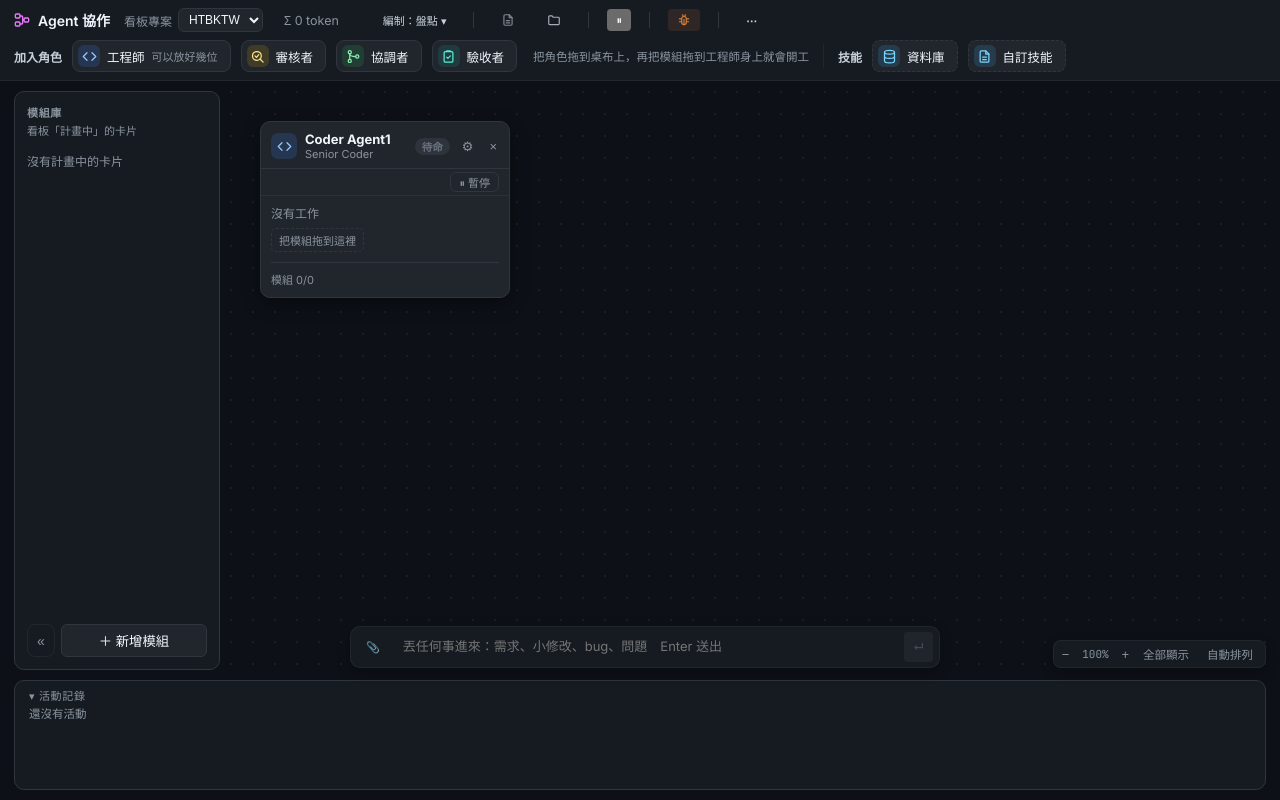
Test: AgentCanvasView › 自訂技能：從資料夾加入的技能已經在清單裡時，告訴使用者已勾選，不是沒反應
The width and height of the screenshot is (1280, 800).
Press the mouse on the element with test id "skill-custom" at (1017,56), box left=968, top=40, right=1066, bottom=72
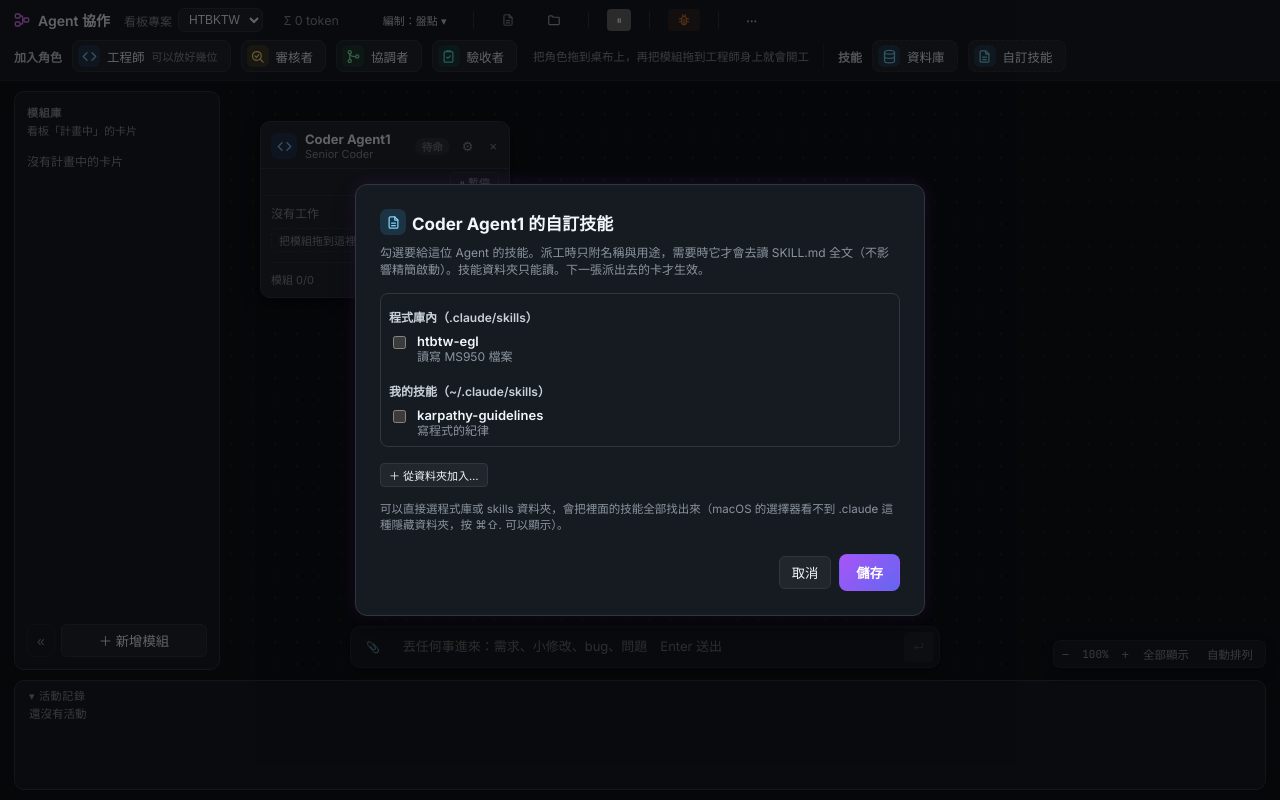
Check: the checkbox labelled "karpathy-guidelines 寫程式的紀律" is shown, box left=393, top=410, right=406, bottom=423
Click the button "＋ 從資料夾加入…" at (434,475), box left=380, top=463, right=488, bottom=487
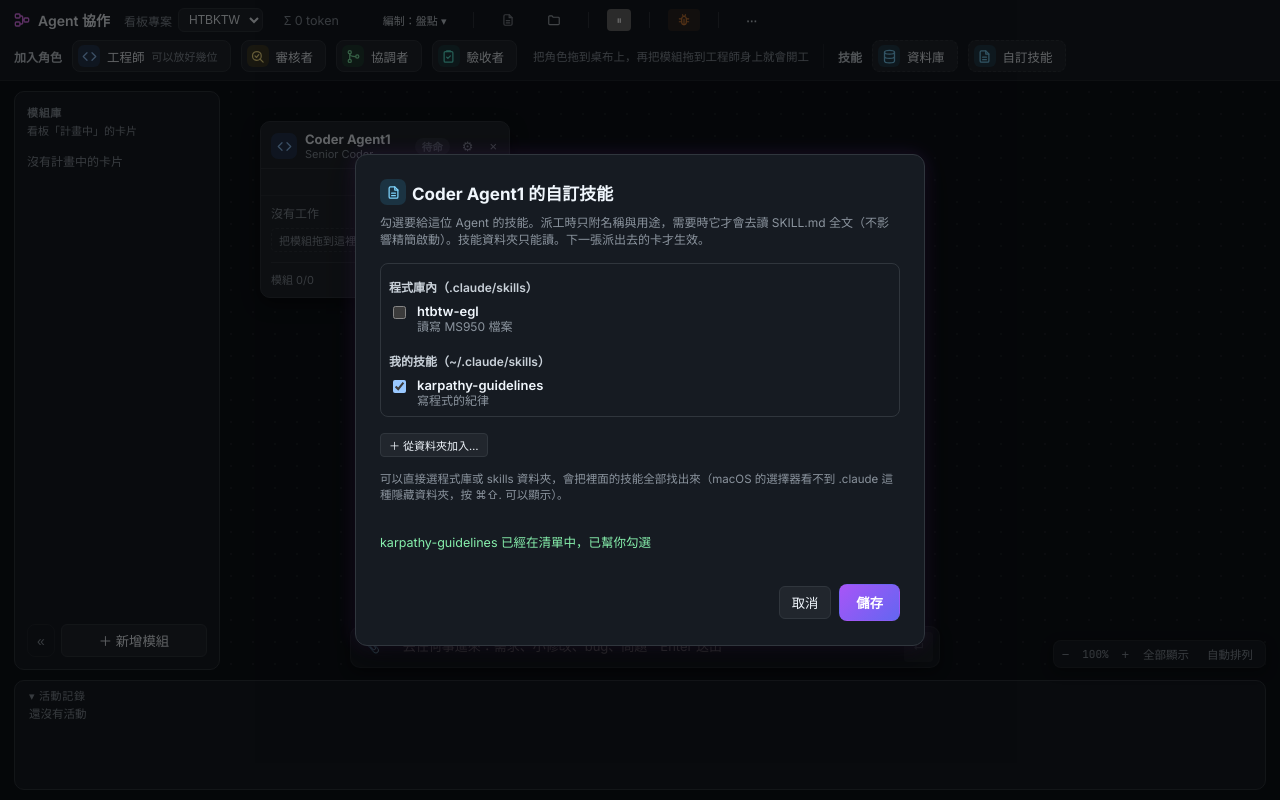
Check: the number of checkboxes labelled "karpathy-guidelines 寫程式的紀律" is 1, box left=393, top=380, right=406, bottom=393
Check: the text "karpathy-guidelines 已經在清單中，已幫你勾選" is shown, box left=380, top=536, right=651, bottom=550
Check: the checkbox labelled "karpathy-guidelines 寫程式的紀律" is checked, box left=393, top=380, right=406, bottom=393
